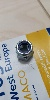Nut: (13, 39, 36, 62)
